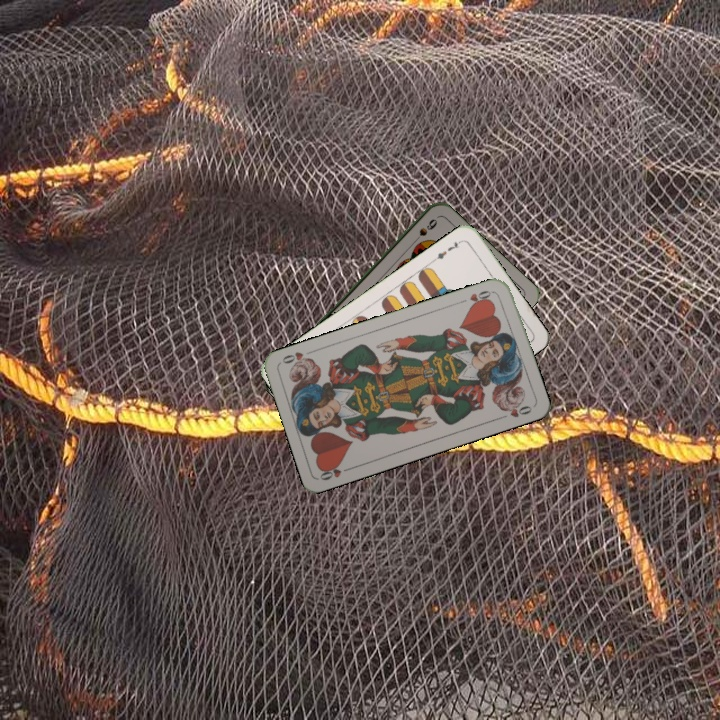E7: (429, 236, 465, 264)
HO: (456, 286, 496, 309), (316, 460, 356, 483)
S9: (408, 215, 440, 247)
